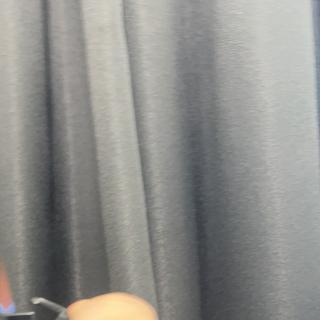fire: (0, 260, 16, 312)
